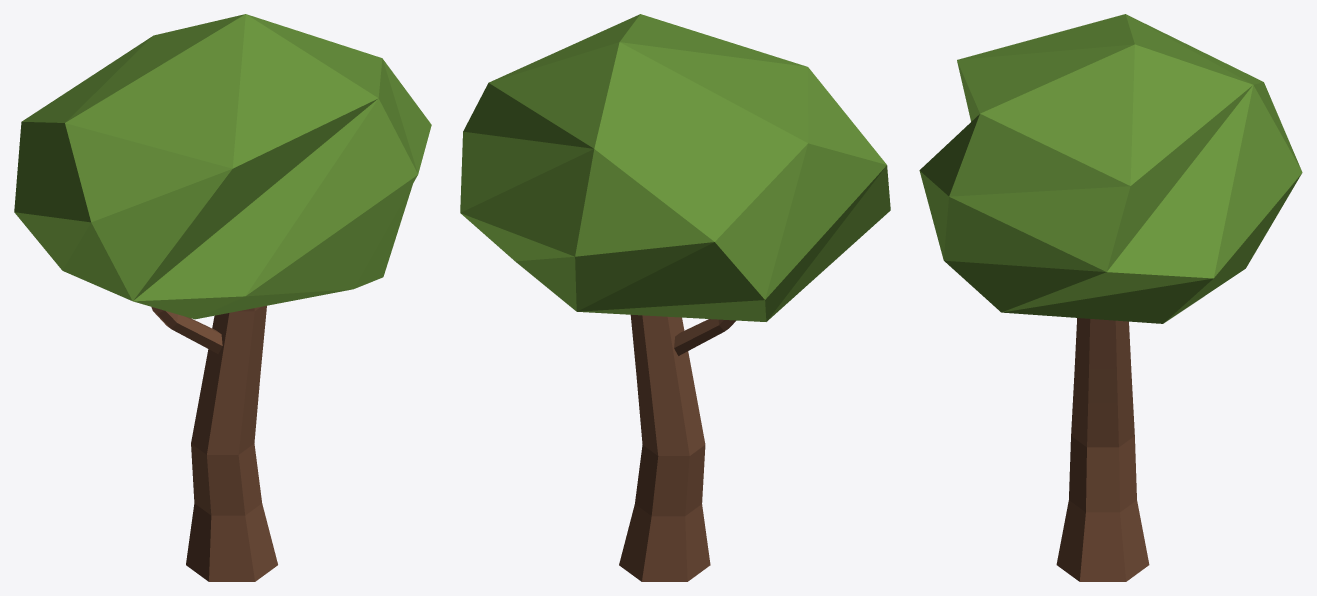
The model's file is SPW_Natures_Tree_01.glb.
3 renders of one model, left to right at view 1: azimuth 30°, elevation 25°; view 2: azimuth 150°, elevation 25°; view 3: azimuth 270°, elevation 25°, orthographic.
Parts seen in each view (by area): view 1: SPW_Natures_Tree_01; view 2: SPW_Natures_Tree_01; view 3: SPW_Natures_Tree_01.
Boxes of the visible parts, left/top/right/bottom form: SPW_Natures_Tree_01: left=14, top=14, right=431, bottom=581; SPW_Natures_Tree_01: left=460, top=14, right=890, bottom=581; SPW_Natures_Tree_01: left=919, top=14, right=1302, bottom=581.
Bounding box in the file's own units: 4.8 × 6.36 × 4.12.
1 material, 1 textured.
